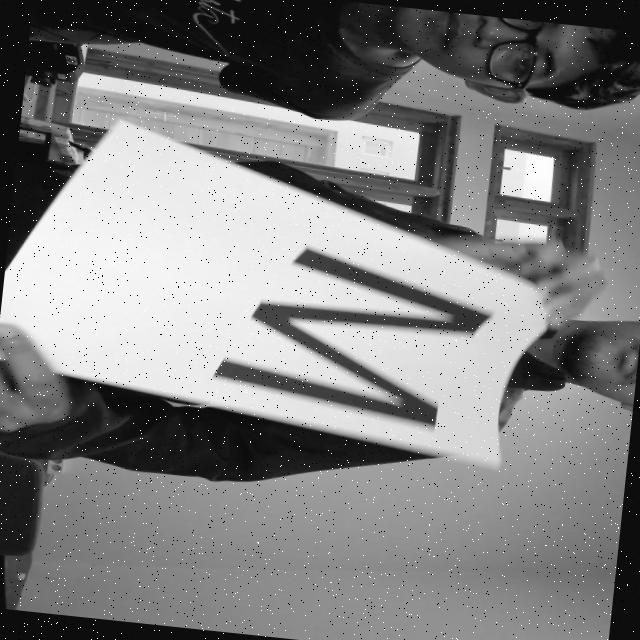m: (192, 228, 518, 454)
